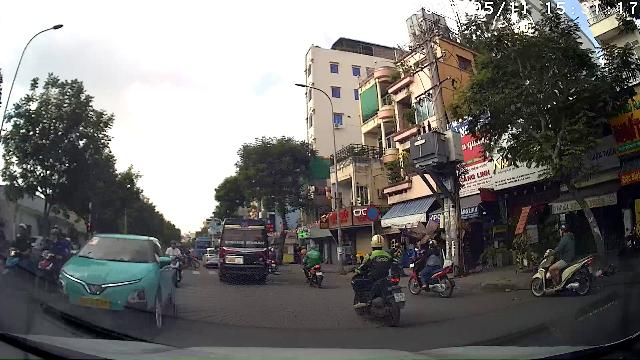131a-cam-do-xe: (365, 205, 379, 222)
